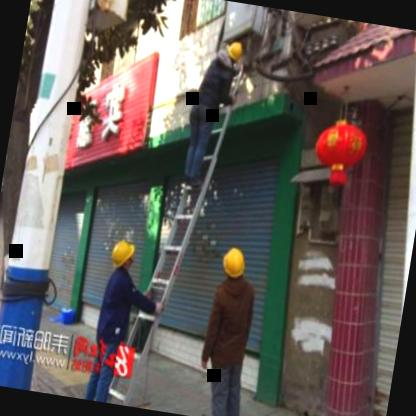helmet: (217, 242, 249, 288), (106, 235, 136, 274), (218, 36, 245, 72)
